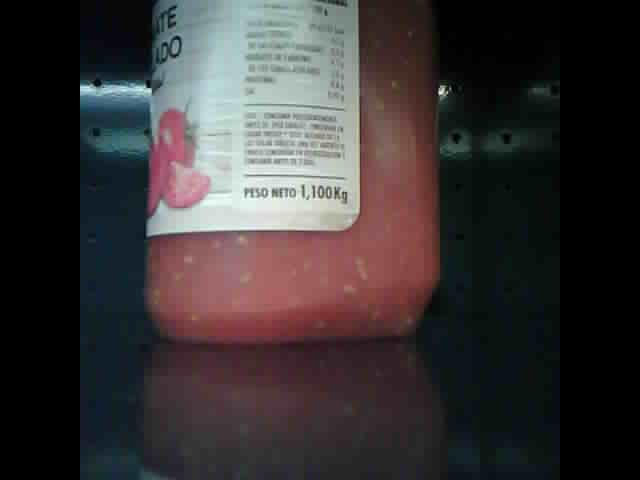tomate: (143, 4, 436, 345)
